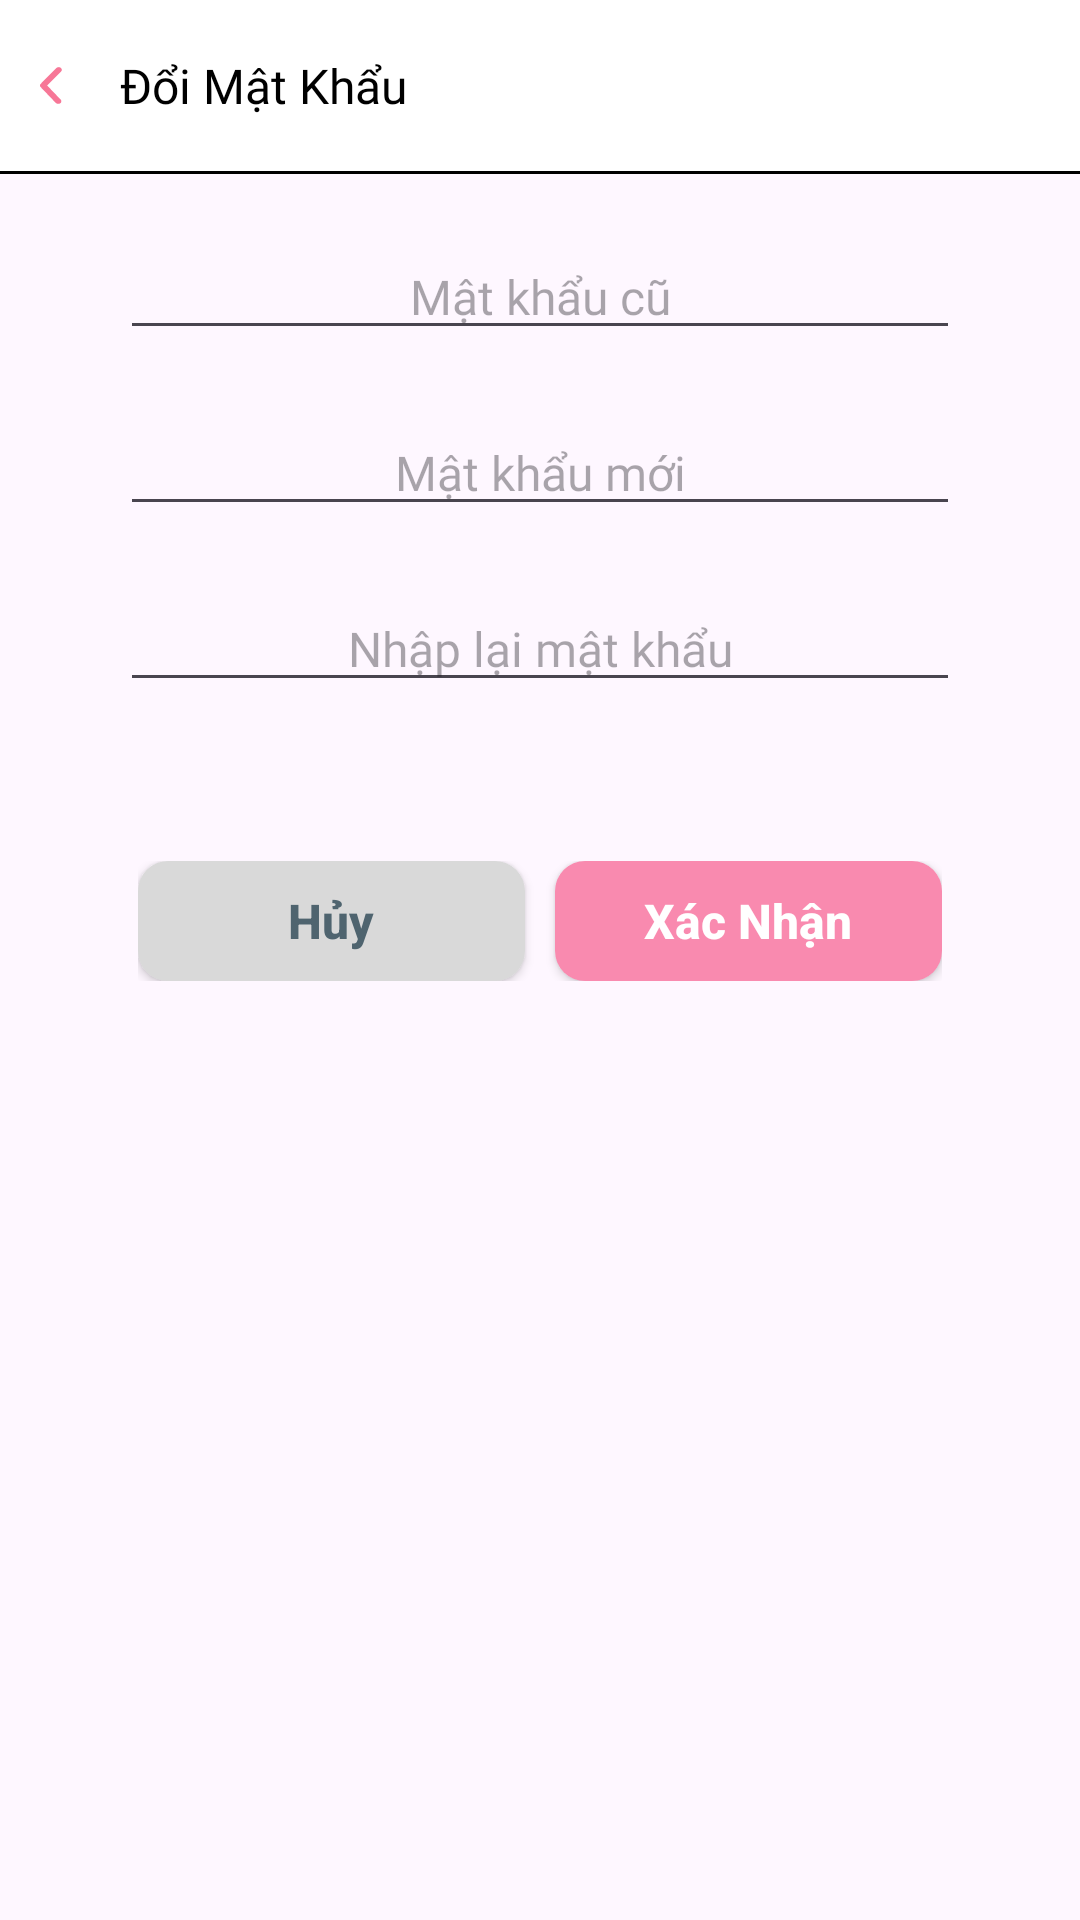

Named icons in this screenshot (1080px x 1920px) and their centers, [x,y]:
arrow back: [51,85]
